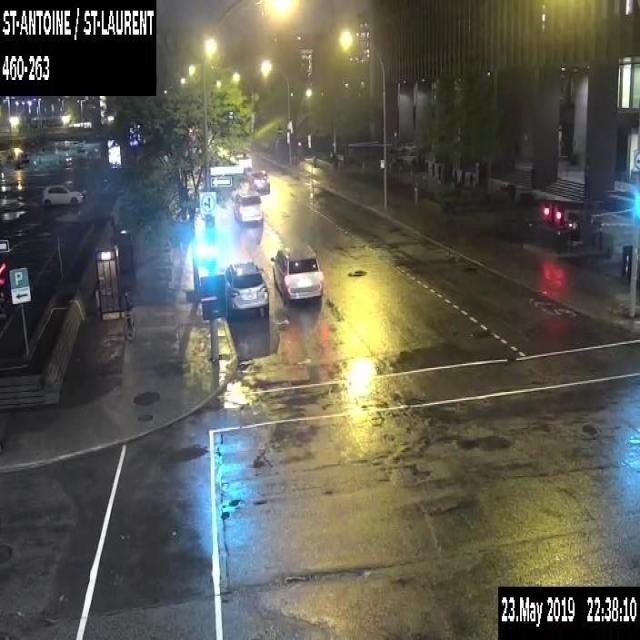construction: (275, 125, 283, 137)
vehicle: (269, 242, 322, 304), (224, 257, 269, 319), (42, 182, 87, 208), (232, 188, 262, 224), (250, 169, 269, 193), (7, 146, 29, 166)
